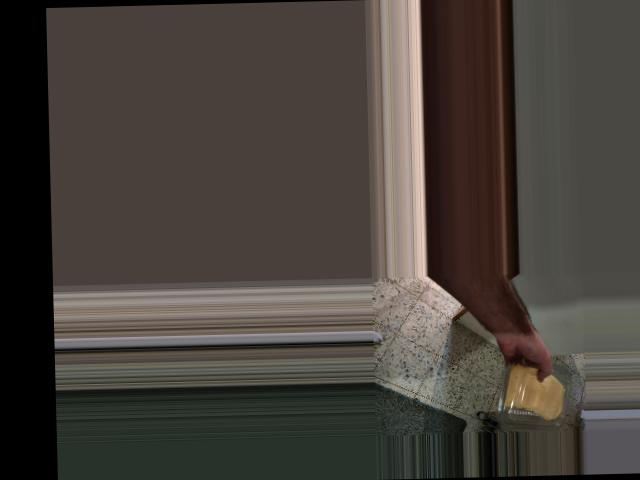cheese: (497, 360, 568, 426)
